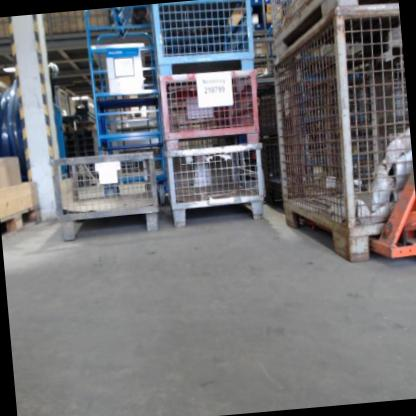pallet: (0, 203, 44, 242)
pallet_truck: (356, 159, 416, 277)
stillage: (266, 1, 416, 269), (48, 147, 165, 243), (165, 138, 273, 231), (154, 63, 267, 149), (266, 0, 404, 68), (149, 0, 261, 80)
